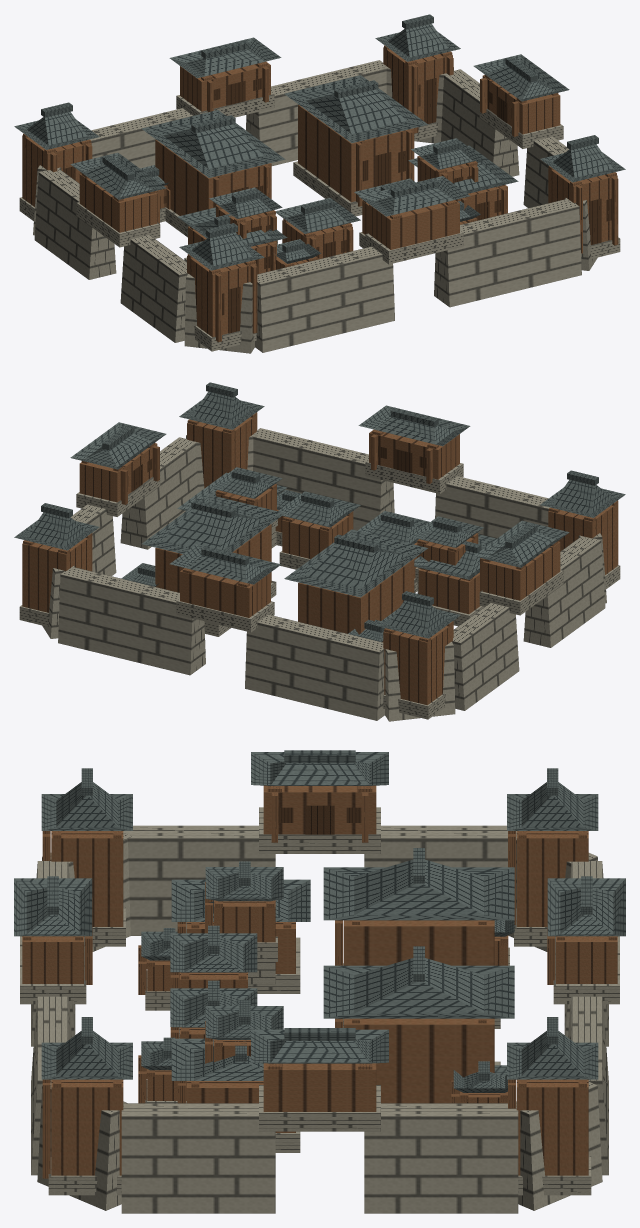
The model's file is city1-lod1.glb.
The picture shows the model from 3 angles, top to bottom: view 1: azimuth 30°, elevation 25°; view 2: azimuth 150°, elevation 25°; view 3: azimuth 270°, elevation 25°; orthographic projection. The views are drawn at different scales.
Bounding box in the file's own units: 2.15 × 0.561 × 1.79.
1 material, 1 textured.
